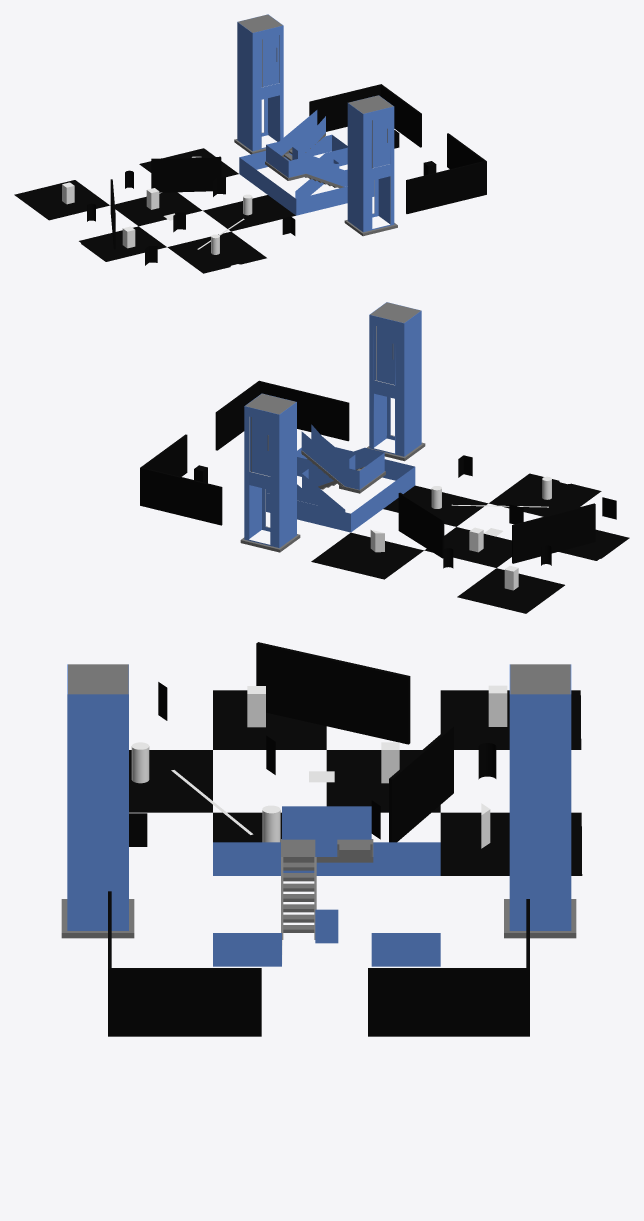
File: MASSMEDIA.obj
The picture shows the model from 3 angles, top to bottom: view 1: azimuth 30°, elevation 25°; view 2: azimuth 150°, elevation 25°; view 3: azimuth 270°, elevation 25°; orthographic projection. The views are drawn at different scales.
Parts seen in each view (by area): view 1: Obj_000077, Obj_000118, Obj_000113, Obj_000073, Obj_000064, Obj_000061, Obj_000062, Obj_000068, Obj_000076, Obj_000060, Obj_000078, Obj_000110 (+4 smaller); view 2: Obj_000113, Obj_000118, Obj_000077, Obj_000061, Obj_000076, Obj_000064, Obj_000073, Obj_000002, Obj_000062, Obj_000068, Obj_000060, Obj_000078 (+4 smaller); view 3: Obj_000113, Obj_000076, Obj_000118, Obj_000077, Obj_000061, Obj_000064, Obj_000073, Obj_000002, Obj_000062, Obj_000068, Obj_000038, Obj_000030 (+7 smaller).
Boxes of the visible parts, x1=… form: Obj_000077: x1=239, y1=110, x2=374, y2=215; Obj_000118: x1=347, y1=95, x2=394, y2=232; Obj_000113: x1=237, y1=14, x2=283, y2=151; Obj_000073: x1=115, y1=156, x2=221, y2=226; Obj_000064: x1=406, y1=133, x2=486, y2=213; Obj_000061: x1=309, y1=84, x2=421, y2=147; Obj_000062: x1=167, y1=231, x2=266, y2=273; Obj_000068: x1=14, y1=180, x2=109, y2=220; Obj_000076: x1=79, y1=179, x2=166, y2=261; Obj_000060: x1=203, y1=195, x2=295, y2=231; Obj_000078: x1=292, y1=116, x2=339, y2=198; Obj_000110: x1=262, y1=35, x2=279, y2=86; Obj_000113: x1=244, y1=393, x2=296, y2=547; Obj_000118: x1=369, y1=302, x2=421, y2=456; Obj_000077: x1=266, y1=431, x2=415, y2=532; Obj_000061: x1=140, y1=434, x2=222, y2=525; Obj_000076: x1=512, y1=503, x2=629, y2=563; Obj_000064: x1=215, y1=380, x2=349, y2=450; Obj_000073: x1=398, y1=492, x2=511, y2=567; Obj_000002: x1=311, y1=532, x2=423, y2=579; Obj_000062: x1=489, y1=473, x2=601, y2=516; Obj_000068: x1=457, y1=568, x2=564, y2=613; Obj_000060: x1=383, y1=485, x2=488, y2=526; Obj_000078: x1=302, y1=424, x2=355, y2=511; Obj_000113: x1=509, y1=664, x2=571, y2=930; Obj_000076: x1=213, y1=642, x2=410, y2=749; Obj_000118: x1=67, y1=664, x2=128, y2=930; Obj_000077: x1=213, y1=806, x2=440, y2=966; Obj_000061: x1=368, y1=899, x2=529, y2=1036; Obj_000064: x1=108, y1=891, x2=261, y2=1036; Obj_000073: x1=326, y1=725, x2=453, y2=842; Obj_000002: x1=440, y1=812, x2=582, y2=875; Obj_000062: x1=129, y1=750, x2=212, y2=812; Obj_000068: x1=440, y1=690, x2=581, y2=749; Obj_000038: x1=510, y1=664, x2=570, y2=694; Obj_000030: x1=68, y1=664, x2=128, y2=694.
Bounding box in the file's own units: 3359 × 863 × 1417.
